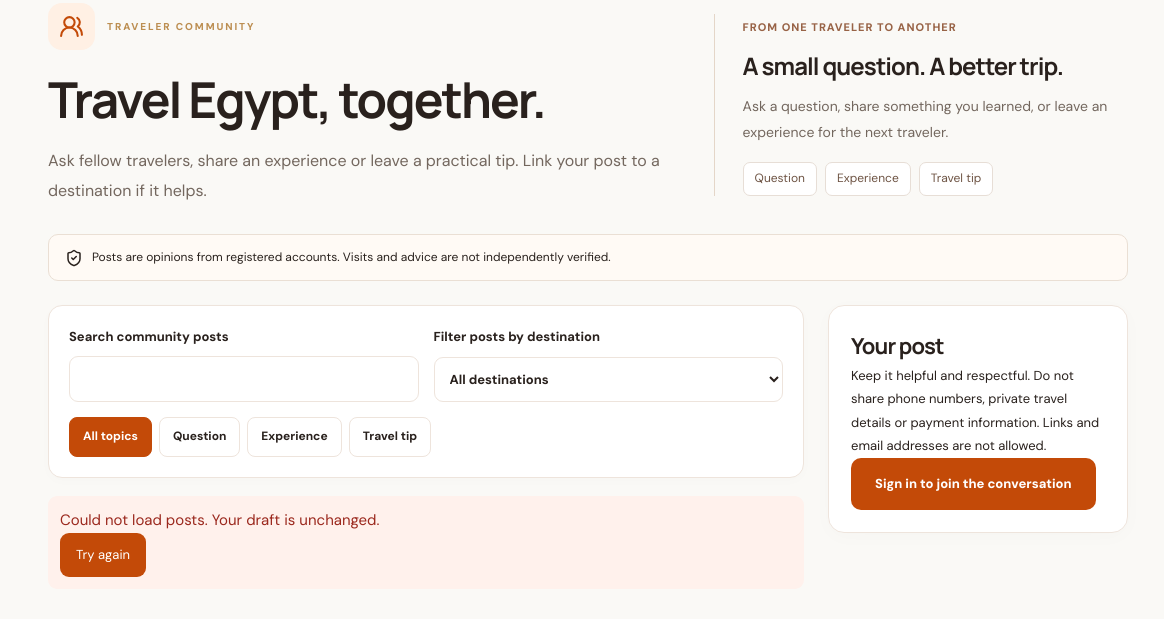
Scenario: traveler posts and existing place reviews › shows retry instead of a false empty community on failure (en)
The image size is (1164, 619).
Expected: the heading "Start the conversation" is not shown
Click the button "Try again".
click(103, 555)  # box top-left (60, 533), bottom-right (146, 577)
(page scrolled)
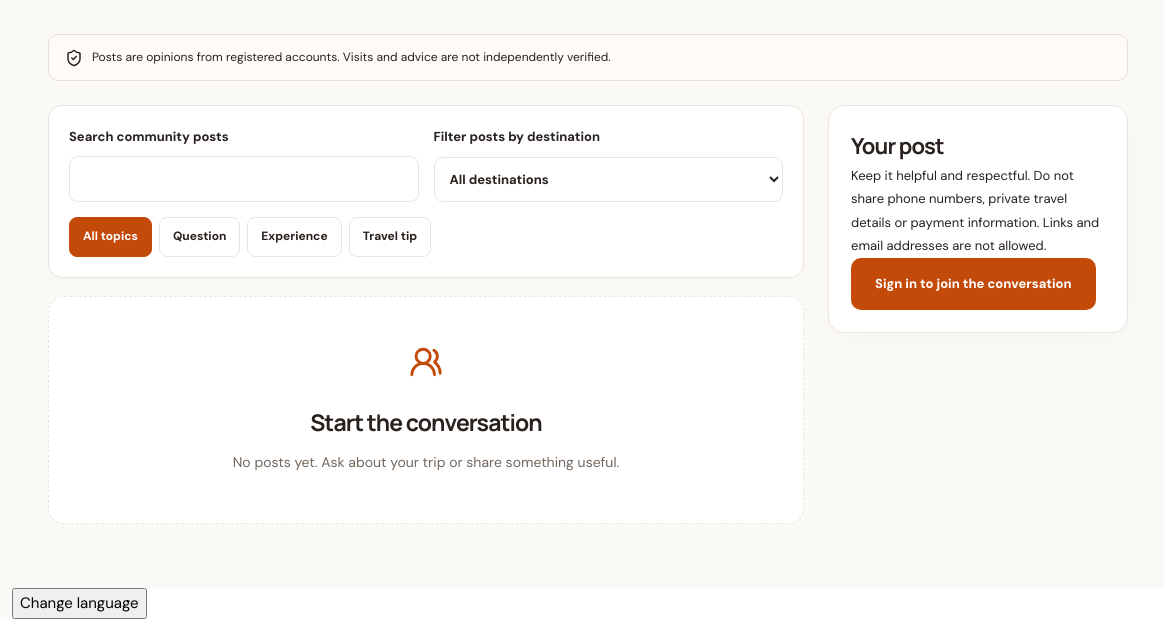
Expected: the heading "Start the conversation" is shown, top-left (310, 406), bottom-right (542, 438)
